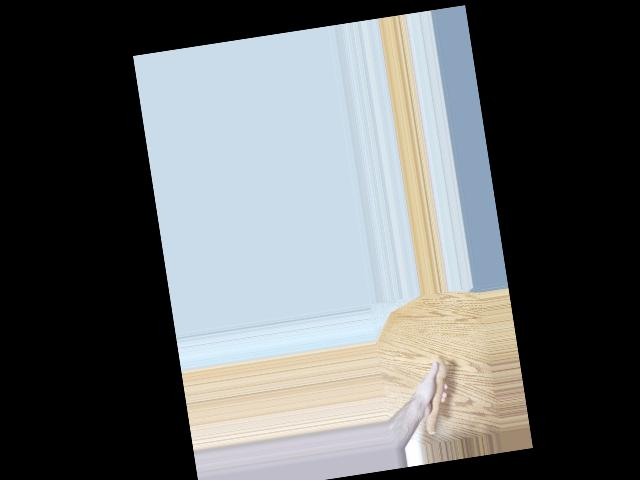sweet_potato: (413, 357, 459, 436)
